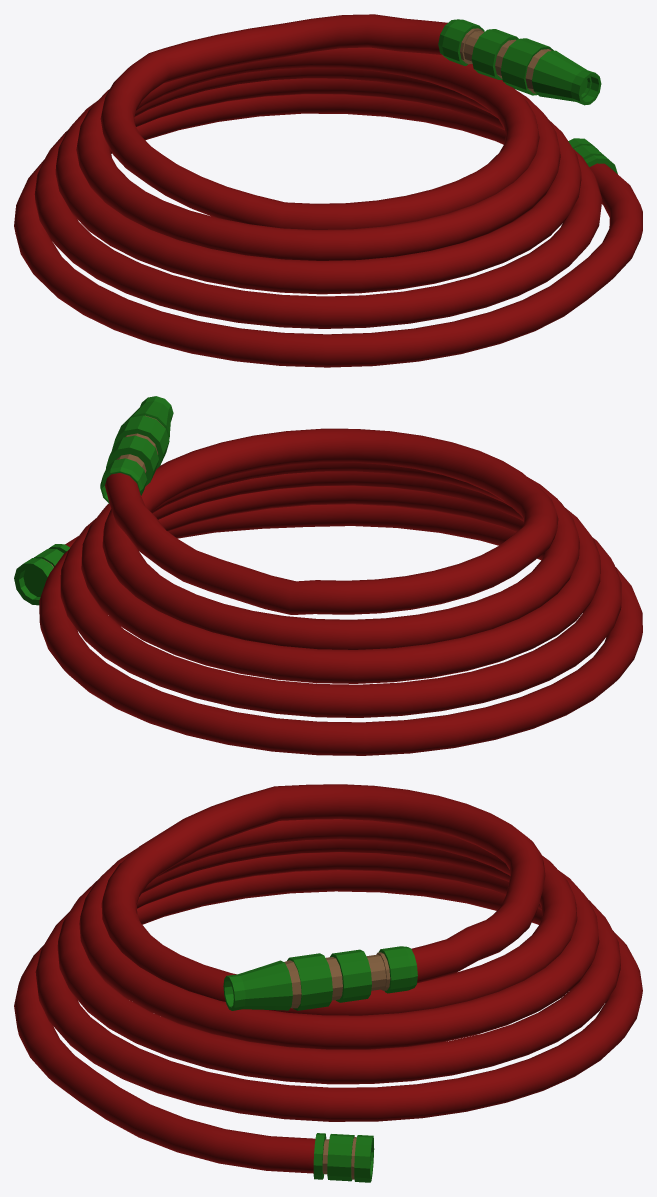
The model's file is Tuyaux arrosage.fbx.
The picture shows the model from 3 angles, top to bottom: view 1: azimuth 30°, elevation 25°; view 2: azimuth 150°, elevation 25°; view 3: azimuth 270°, elevation 25°; orthographic projection. The views are drawn at different scales.
Parts seen in each view (by area): view 1: Helix002; view 2: Helix002; view 3: Helix002.
Part boxes in pixels (x1,y1,x2,y2): Helix002: (14, 14, 642, 367); Helix002: (14, 396, 642, 755); Helix002: (14, 784, 642, 1182).
Size of the model in its own units: 48.25 by 14.54 by 44.92.
